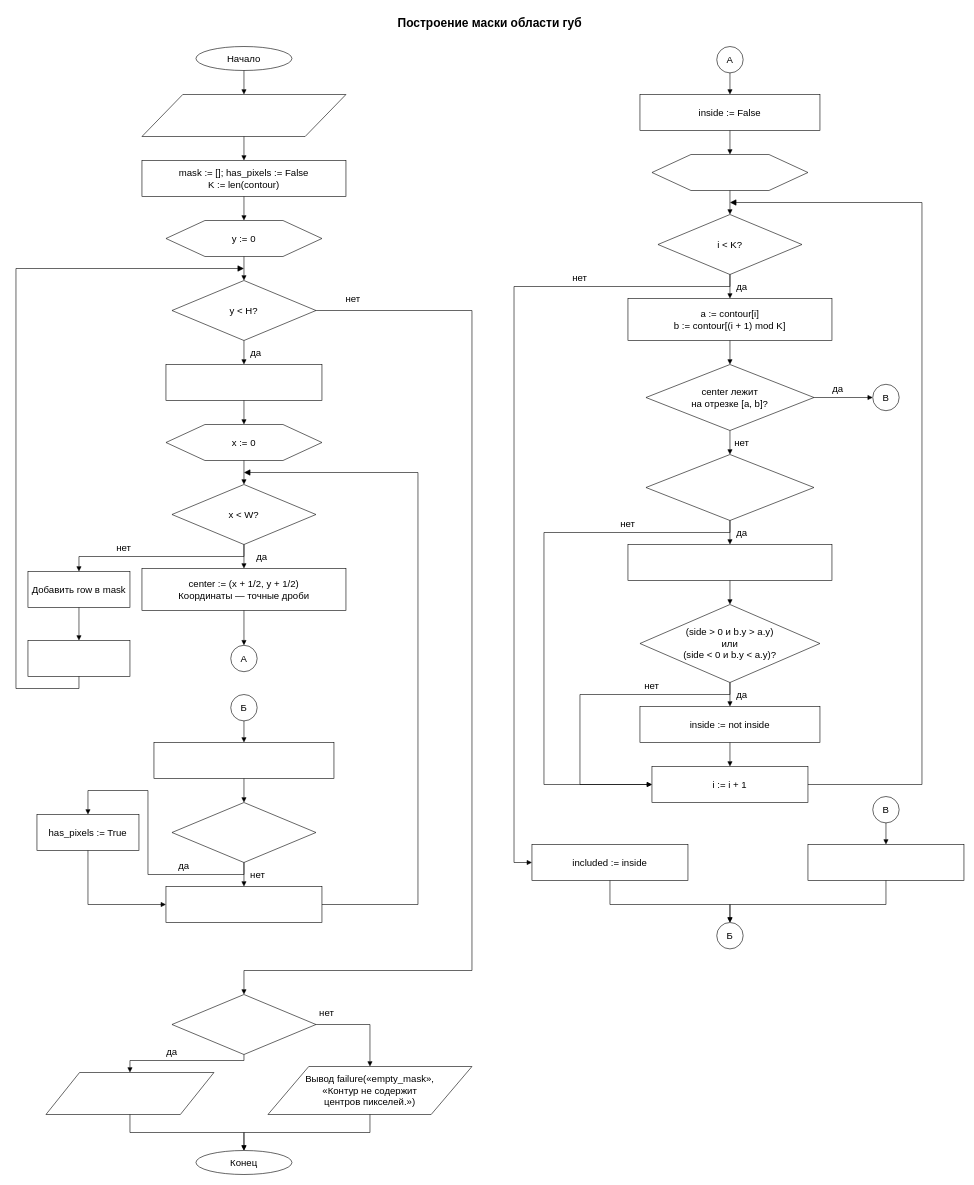
Image size: 974x1185. Some labels were removed from this diagram. Each missing label, with the box of its shape:
(a.y > center.y) ≠ (b.y > center.y)?: (645, 454, 814, 520)
has_pixels?: (171, 994, 316, 1054)
i := 0: (651, 154, 808, 190)
included := True: (807, 844, 964, 880)
included?: (171, 802, 316, 862)
row := []: (165, 364, 322, 400)
side := cross(a, b, center): (627, 544, 832, 580)
x := x + 1: (165, 886, 322, 922)
y := y + 1: (27, 640, 130, 676)
Ввод H, W, contour Входы уже проверены: (141, 94, 346, 136)
Вывод success(mask): (45, 1072, 214, 1114)
Добавить included в row: (153, 742, 334, 778)
